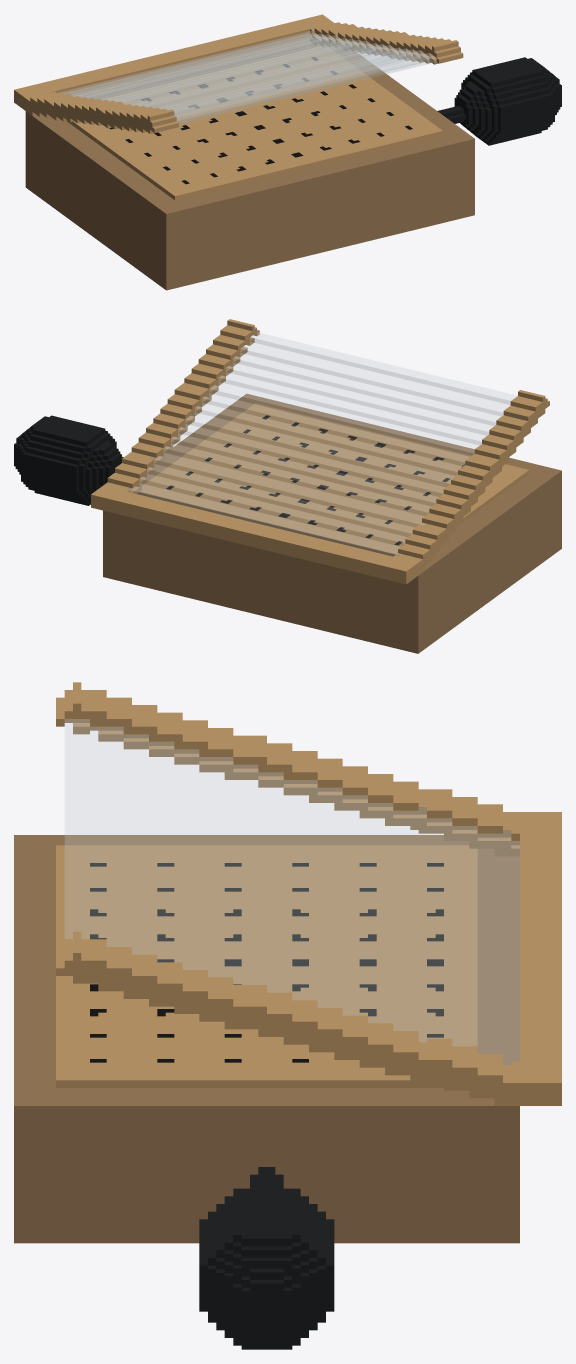
File: makeshift_vacuum_mold.glb
3 renders of one model, top to bottom at view 1: azimuth 30°, elevation 25°; view 2: azimuth 150°, elevation 25°; view 3: azimuth 270°, elevation 25°, orthographic. The views are drawn at different scales.
Parts seen in each view (by area): view 1: makeshift_vacuum_mold:compound; view 2: makeshift_vacuum_mold:compound; view 3: makeshift_vacuum_mold:compound.
Part boxes in pixels (x1,y1,x2,y2): makeshift_vacuum_mold:compound: [14, 14, 561, 290]; makeshift_vacuum_mold:compound: [14, 319, 561, 653]; makeshift_vacuum_mold:compound: [14, 682, 561, 1349].
Bounding box in the file's own units: 0.452 × 0.152 × 0.26.
